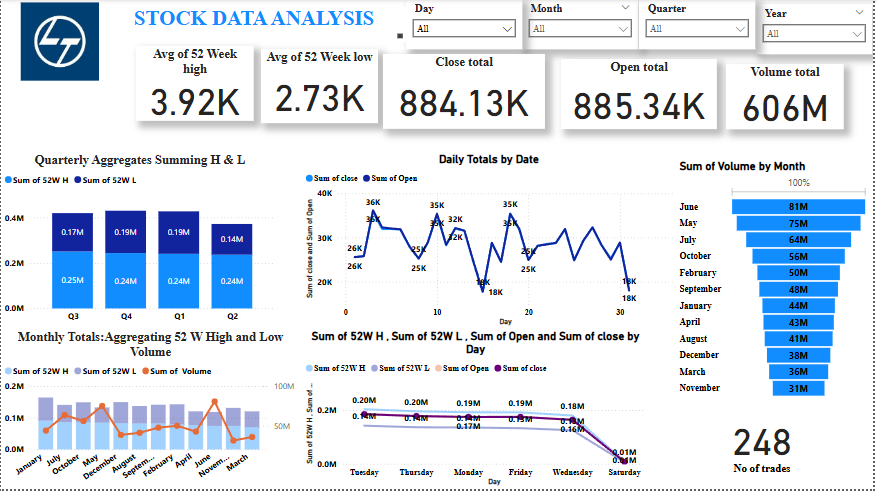

What the dashboard file says about the page in this screenshot:
{"tool":"powerbi","page":{"name":"L & T STOCK","canvas":[1280,720],"ordinal":0},"visuals":[{"type":"slicer","fields":{"Values":["Quote-Equity-LT-EQ-20-03-2024-to-20-03-2025.Month"]},"box":[766,0,171.3,73.9],"z":0},{"type":"slicer","fields":{"Values":["Quote-Equity-LT-EQ-20-03-2024-to-20-03-2025.Day"]},"box":[594.6,0,171.3,73.9],"z":1000},{"type":"slicer","fields":{"Values":["Quote-Equity-LT-EQ-20-03-2024-to-20-03-2025.Year"]},"box":[1108.7,6.7,171.3,73.9],"z":2000},{"type":"slicer","fields":{"Values":["Quote-Equity-LT-EQ-20-03-2024-to-20-03-2025.Quarter"]},"box":[937.3,0,171.3,73.9],"z":3000},{"type":"card","title":"Avg of 52 Week high","fields":{"Values":["Avg(Quote-Equity-LT-EQ-20-03-2024-to-20-03-2025.52W H )"]},"box":[198.4,69.1,173.4,110.2],"z":4000},{"type":"card","title":"Avg of 52 Week low","fields":{"Values":["Avg(Quote-Equity-LT-EQ-20-03-2024-to-20-03-2025.52W L )"]},"box":[382,73.5,171.9,108.7],"z":5000},{"type":"card","title":"Close total","fields":{"Values":["Sum(Quote-Equity-LT-EQ-20-03-2024-to-20-03-2025.close )"]},"box":[561.3,80.8,238,110.2],"z":6000},{"type":"card","title":"Open total","fields":{"Values":["Sum(Quote-Equity-LT-EQ-20-03-2024-to-20-03-2025.OPEN )"]},"box":[822.9,88.2,229.2,102.9],"z":7000},{"type":"card","title":"Volume total","fields":{"Values":["Sum(Quote-Equity-LT-EQ-20-03-2024-to-20-03-2025.VOLUME )"]},"box":[1065.3,95.5,173.4,95.5],"z":8000},{"type":"columnChart","title":"Quarterly Aggregates Summing H & L","fields":{"Y":["Sum(Quote-Equity-LT-EQ-20-03-2024-to-20-03-2025.52W H )","Sum(Quote-Equity-LT-EQ-20-03-2024-to-20-03-2025.52W L )"],"Category":["Quote-Equity-LT-EQ-20-03-2024-to-20-03-2025.Quarter"]},"box":[0,224.8,408.5,260.1],"z":9000},{"type":"lineStackedColumnComboChart","title":"Monthly Totals:Aggregating 52 W High and Low Volume","fields":{"Category":["Quote-Equity-LT-EQ-20-03-2024-to-20-03-2025.Month"],"Y":["Sum(Quote-Equity-LT-EQ-20-03-2024-to-20-03-2025.52W H )","Sum(Quote-Equity-LT-EQ-20-03-2024-to-20-03-2025.52W L )"],"Y2":["Sum(Quote-Equity-LT-EQ-20-03-2024-to-20-03-2025.VOLUME )"]},"box":[0,484.9,439.3,235.1],"z":10000},{"type":"lineChart","title":"Daily Totals by Date","fields":{"Category":["Quote-Equity-LT-EQ-20-03-2024-to-20-03-2025.Date .Variation.Date Hierarchy.Day"],"Y":["Sum(Quote-Equity-LT-EQ-20-03-2024-to-20-03-2025.close )","Sum(Quote-Equity-LT-EQ-20-03-2024-to-20-03-2025.OPEN )"]},"box":[442.3,224.8,549.6,260.1],"z":11000},{"type":"image","box":[0,0,173.4,124.9],"z":12000},{"type":"lineChart","title":"Sum of 52W H , Sum of 52W L , Sum of Open  and Sum of close  by Day","fields":{"Y":["Sum(Quote-Equity-LT-EQ-20-03-2024-to-20-03-2025.52W H )","Sum(Quote-Equity-LT-EQ-20-03-2024-to-20-03-2025.52W L )","Sum(Quote-Equity-LT-EQ-20-03-2024-to-20-03-2025.OPEN )","Sum(Quote-Equity-LT-EQ-20-03-2024-to-20-03-2025.close )"],"Category":["Quote-Equity-LT-EQ-20-03-2024-to-20-03-2025.Day"]},"box":[442.3,484.9,509.9,235.1],"z":13000},{"type":"funnel","title":"Sum of Volume  by Month","fields":{"Category":["Quote-Equity-LT-EQ-20-03-2024-to-20-03-2025.Month"],"Y":["Sum(Quote-Equity-LT-EQ-20-03-2024-to-20-03-2025.VOLUME )"]},"box":[991.8,235.1,288,387.9],"z":14000},{"type":"textbox","title":"STOCK DATA ANALYSIS","box":[148.4,11.8,446.7,51.4],"z":15000},{"type":"card","fields":{"Values":["CountNonNull(Quote-Equity-LT-EQ-20-03-2024-to-20-03-2025.No of trades )"]},"box":[956.6,586.3,323.3,133.7],"z":16000}]}

Visuals, with their boxes in screenshot pixels (x1, y1, x2, y2), scaled from the page's 1280x720 canvas onto the 877x491 screenshot:
slicer - Quote-Equity-LT-EQ-20-03-2024-to-20-03-2025.Month: l=525, t=0, r=642, b=50
slicer - Quote-Equity-LT-EQ-20-03-2024-to-20-03-2025.Day: l=407, t=0, r=525, b=50
slicer - Quote-Equity-LT-EQ-20-03-2024-to-20-03-2025.Year: l=760, t=5, r=876, b=55
slicer - Quote-Equity-LT-EQ-20-03-2024-to-20-03-2025.Quarter: l=642, t=0, r=760, b=50
"Avg of 52 Week high" card: l=136, t=47, r=255, b=122
"Avg of 52 Week low" card: l=262, t=50, r=380, b=124
"Close total" card: l=385, t=55, r=548, b=130
"Open total" card: l=564, t=60, r=721, b=130
"Volume total" card: l=730, t=65, r=849, b=130
"Quarterly Aggregates Summing H & L" columnChart: l=0, t=153, r=280, b=331
"Monthly Totals:Aggregating 52 W High and Low Volume" lineStackedColumnComboChart: l=0, t=331, r=301, b=490
"Daily Totals by Date" lineChart: l=303, t=153, r=680, b=331
image: l=0, t=0, r=119, b=85
"Sum of 52W H , Sum of 52W L , Sum of Open  and Sum of close  by Day" lineChart: l=303, t=331, r=652, b=490
"Sum of Volume  by Month" funnel: l=680, t=160, r=876, b=425
"STOCK DATA ANALYSIS" textbox: l=102, t=8, r=408, b=43
card - CountNonNull(Quote-Equity-LT-EQ-20-03-2024-to-20-03-2025.No of trades ): l=655, t=400, r=876, b=490
